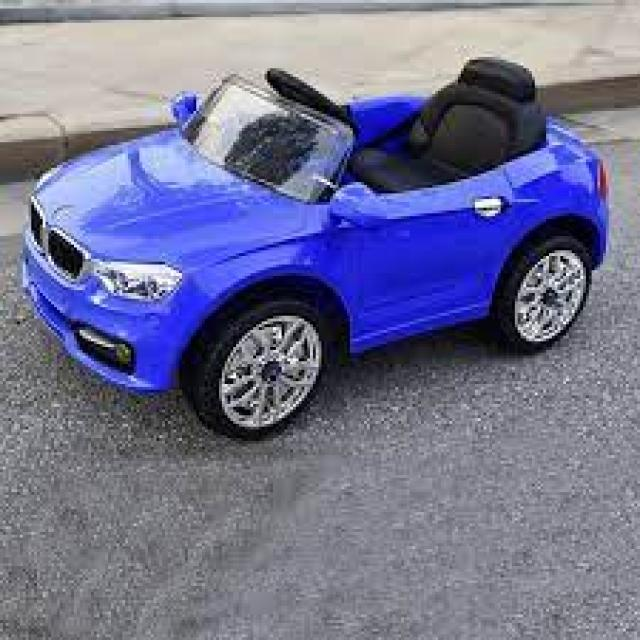Car: (17, 62, 609, 441)
